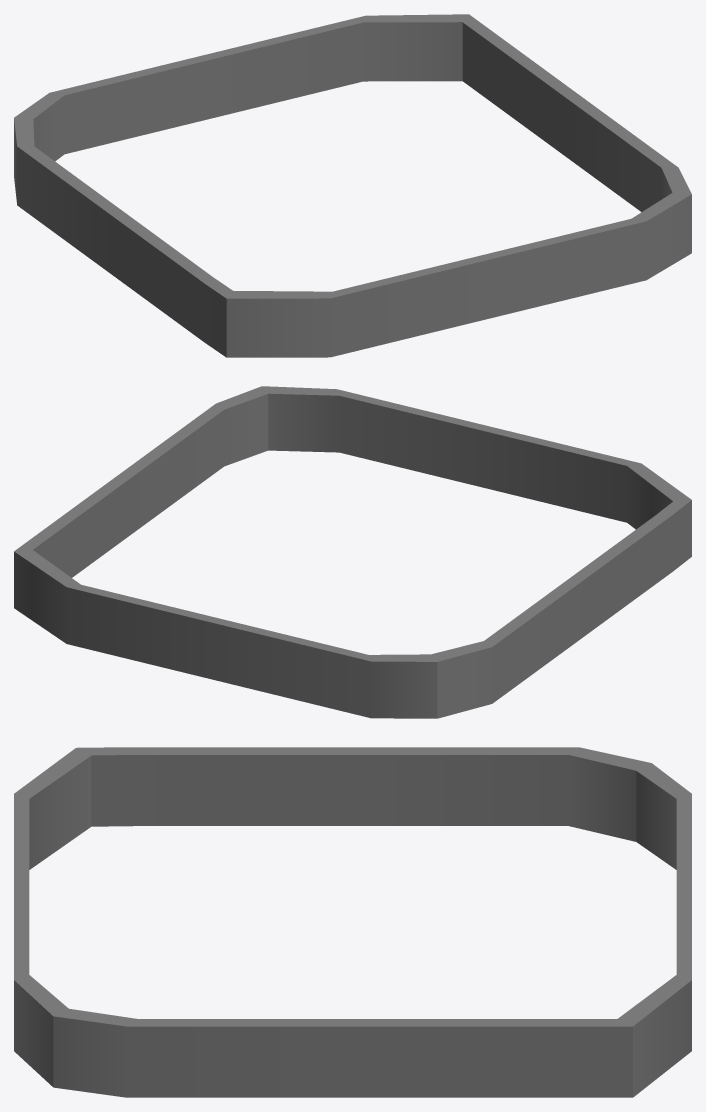
The model's file is Item_RingSpin.fbx.
3 views of the same model, one above another, from view 1: azimuth 30°, elevation 25°; view 2: azimuth 150°, elevation 25°; view 3: azimuth 270°, elevation 25° (orthographic). The views are drawn at different scales.
Visible parts, largest first — view 1: pCube2; view 2: pCube2; view 3: pCube2.
Part boxes in pixels (x1=…): pCube2: x1=14, y1=14, x2=691, y2=357; pCube2: x1=14, y1=386, x2=691, y2=718; pCube2: x1=14, y1=747, x2=691, y2=1097.
Bounding box in the file's own units: 76.61 × 9.11 × 78.58.
